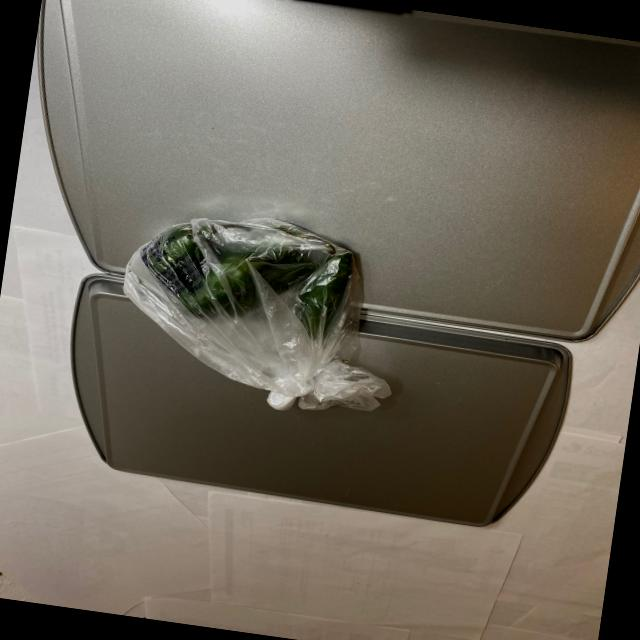chilli: (101, 206, 419, 420)
